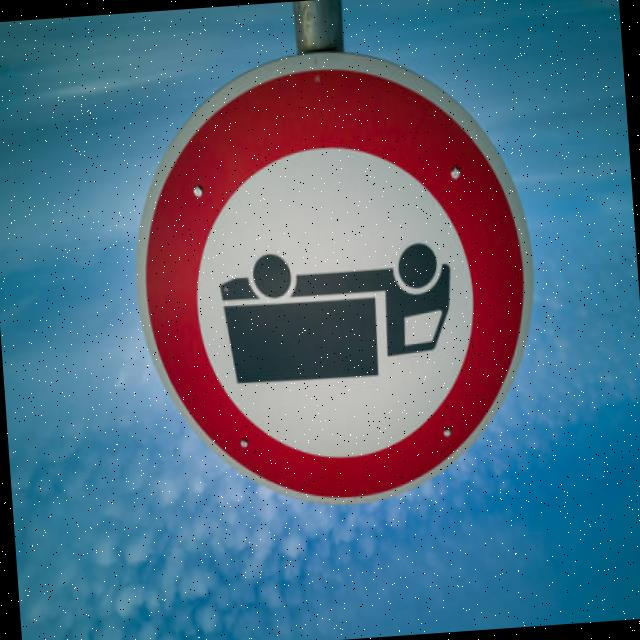do_not_enter: (108, 29, 565, 539)
